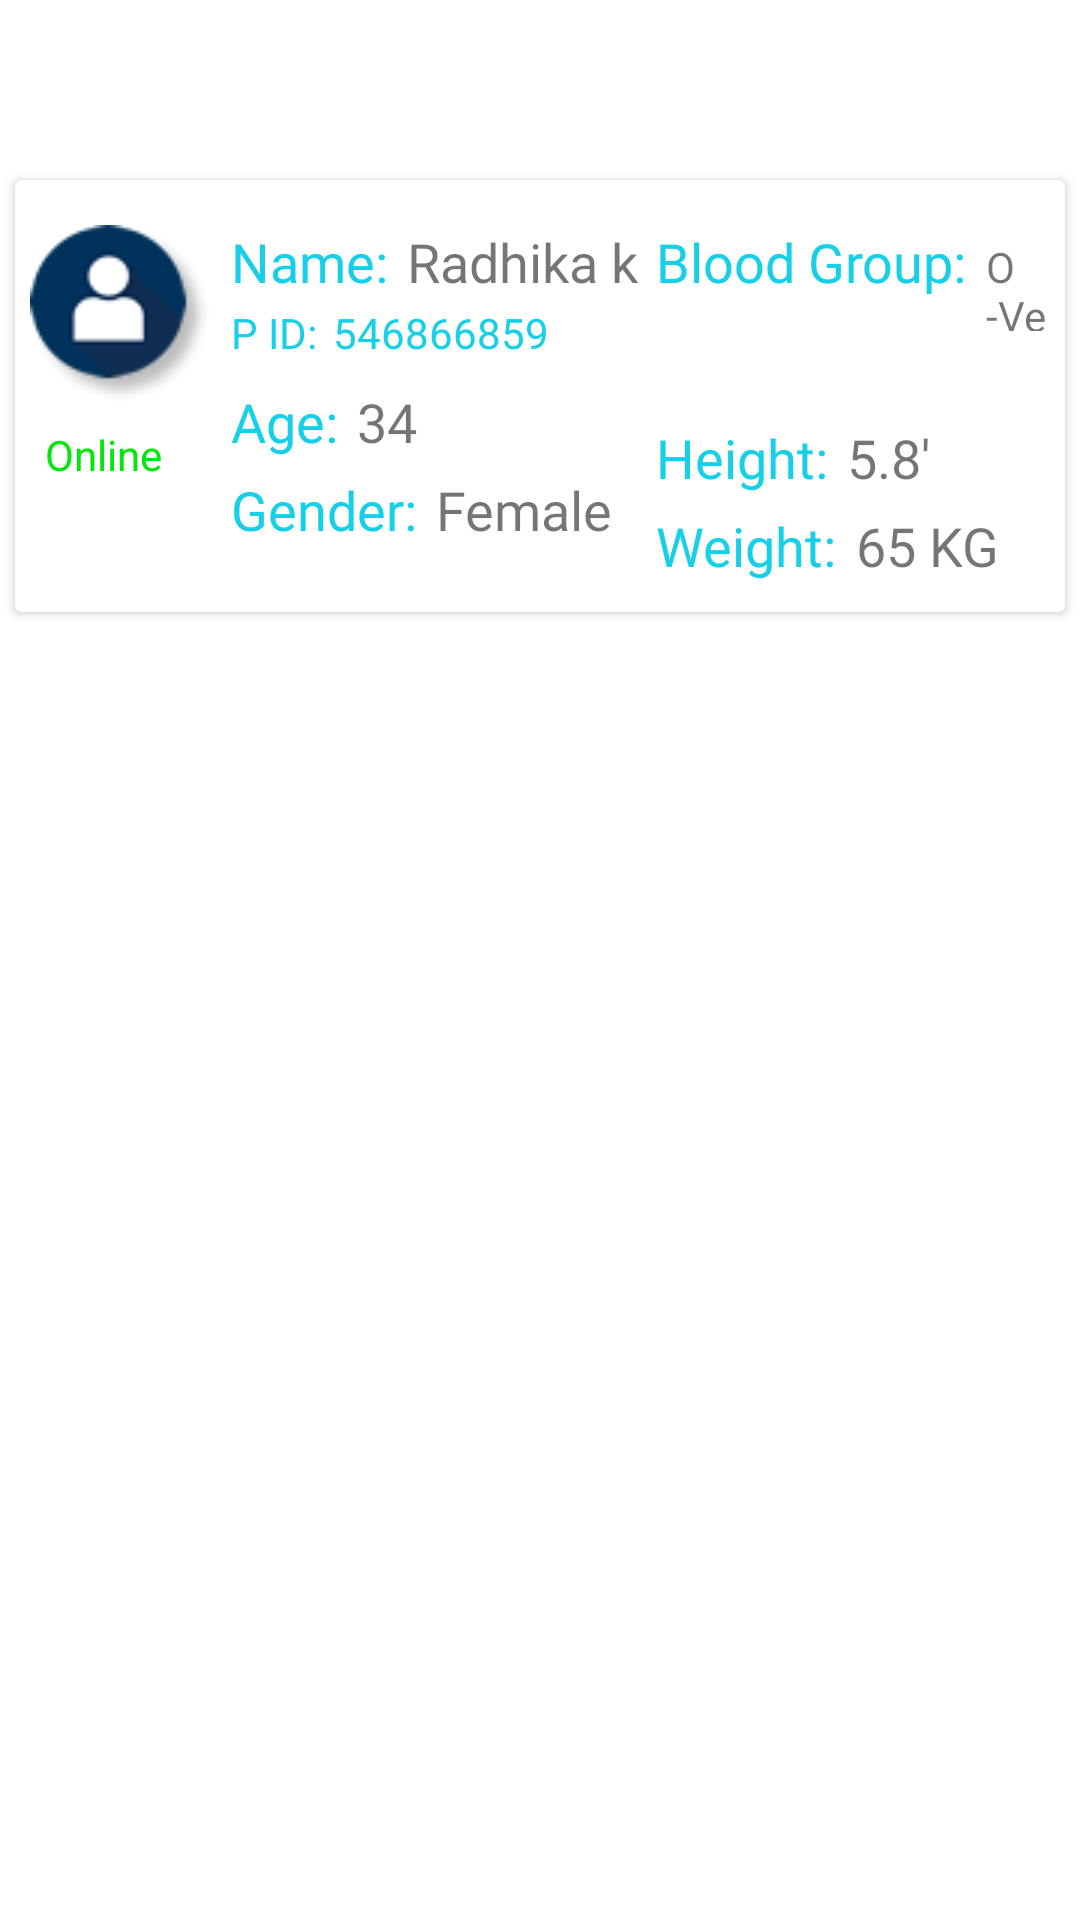

Point at icon controls on the screen. Image size 1080w x 1920h, points as (x,y).
profile: (114,308)
